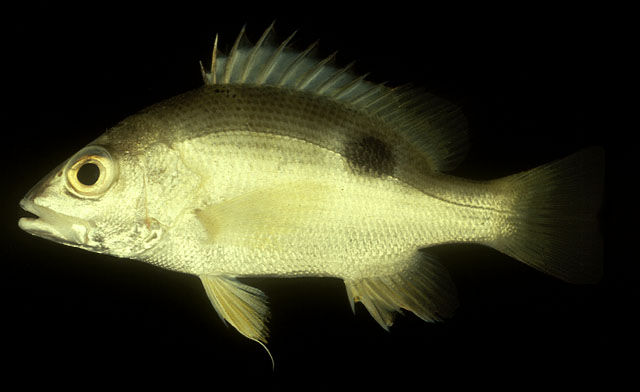fish: (18, 23, 565, 366)
